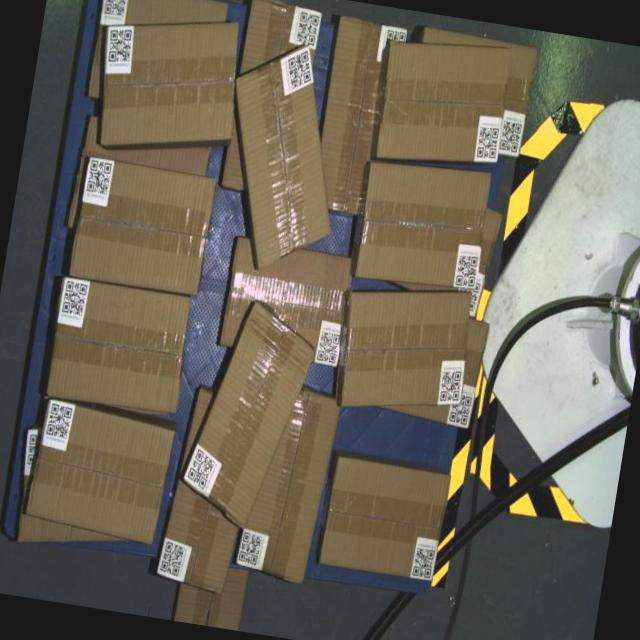box: (206, 34, 360, 281), (176, 292, 323, 537), (88, 2, 250, 166), (23, 397, 177, 547), (334, 275, 479, 426), (235, 382, 342, 586), (372, 29, 516, 176), (44, 277, 194, 416), (70, 156, 218, 296), (353, 154, 495, 296), (318, 454, 452, 582)
